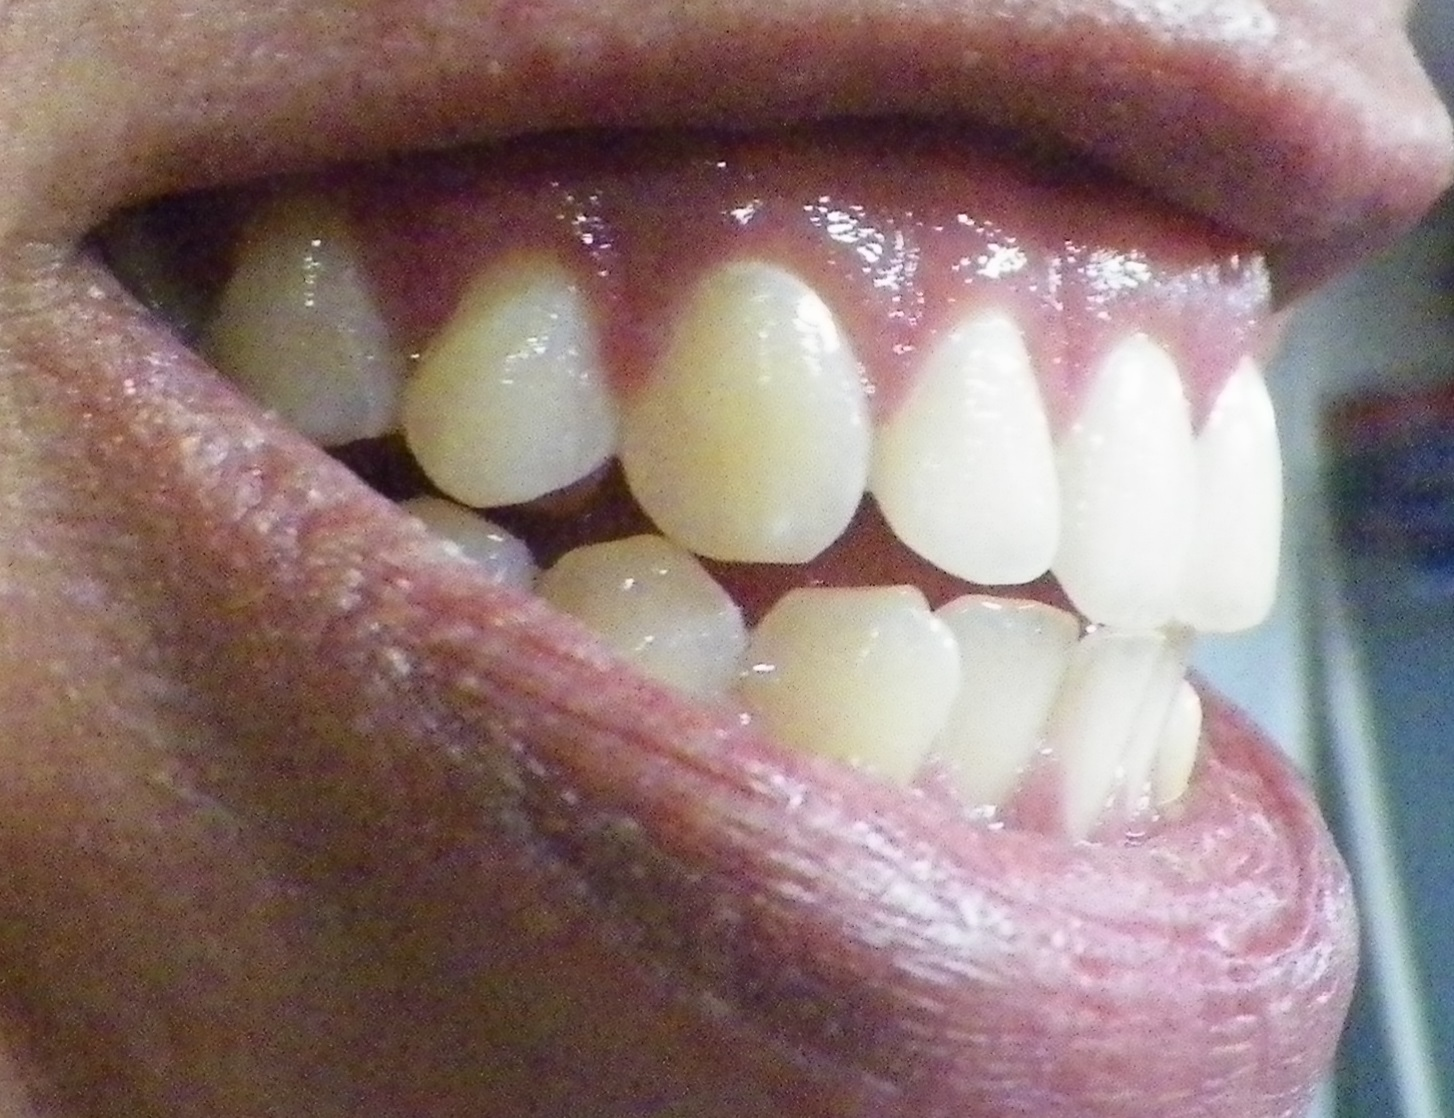boca: (108, 189, 1293, 843)
